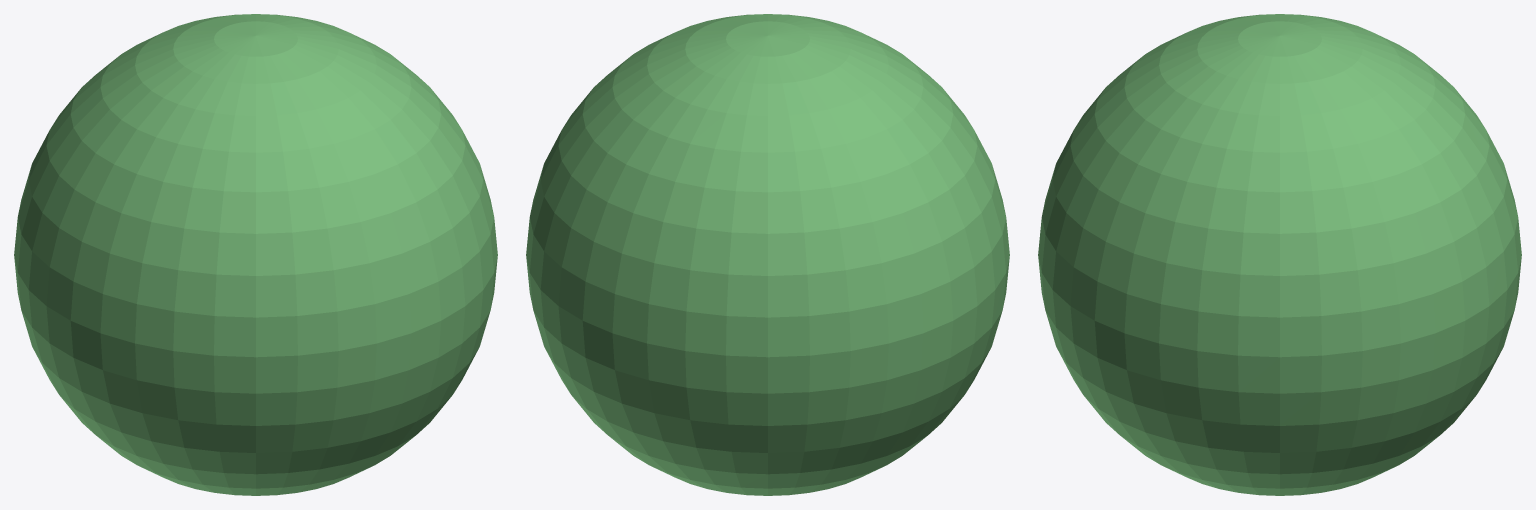
File: democrite.glb
3 renders of one model, left to right at view 1: azimuth 30°, elevation 25°; view 2: azimuth 150°, elevation 25°; view 3: azimuth 270°, elevation 25°, orthographic.
Visible parts, largest first — view 1: Mesh_Mesh_head_geo.001_lambert2SG.001; view 2: Mesh_Mesh_head_geo.001_lambert2SG.001; view 3: Mesh_Mesh_head_geo.001_lambert2SG.001.
Part boxes in pixels (x1=…): Mesh_Mesh_head_geo.001_lambert2SG.001: x1=14, y1=14, x2=497, y2=495; Mesh_Mesh_head_geo.001_lambert2SG.001: x1=526, y1=14, x2=1009, y2=495; Mesh_Mesh_head_geo.001_lambert2SG.001: x1=1038, y1=14, x2=1521, y2=495.
Bounding box in the file's own units: 40 × 40 × 40.
